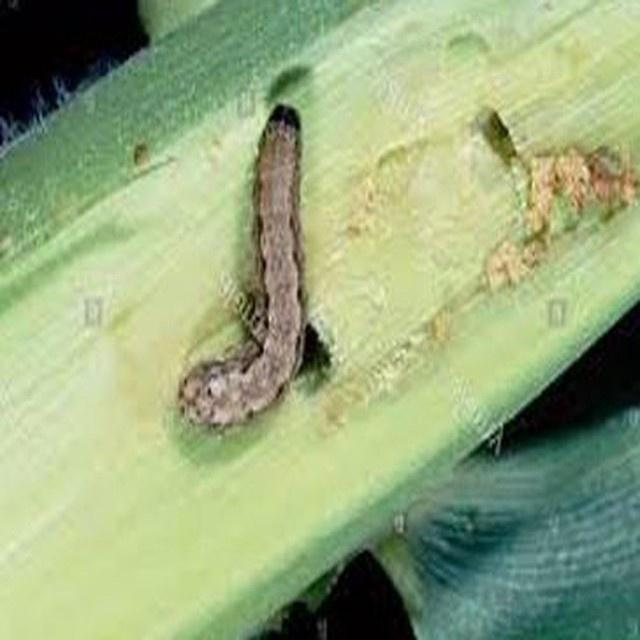gusano_cogollero: (172, 107, 305, 430)
